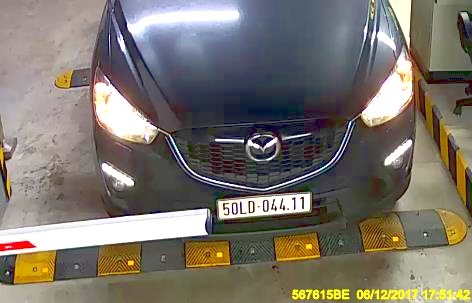plate: (212, 193, 315, 218)
